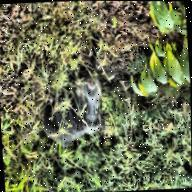boar: (31, 38, 123, 157)
